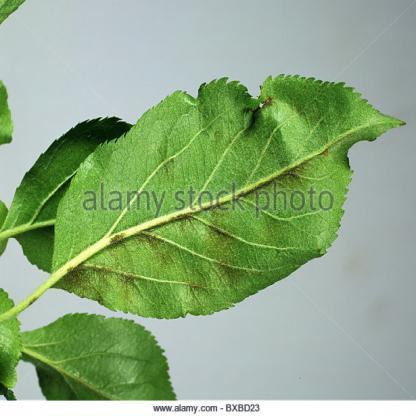Apple Scab Leaf: (52, 63, 402, 318)
